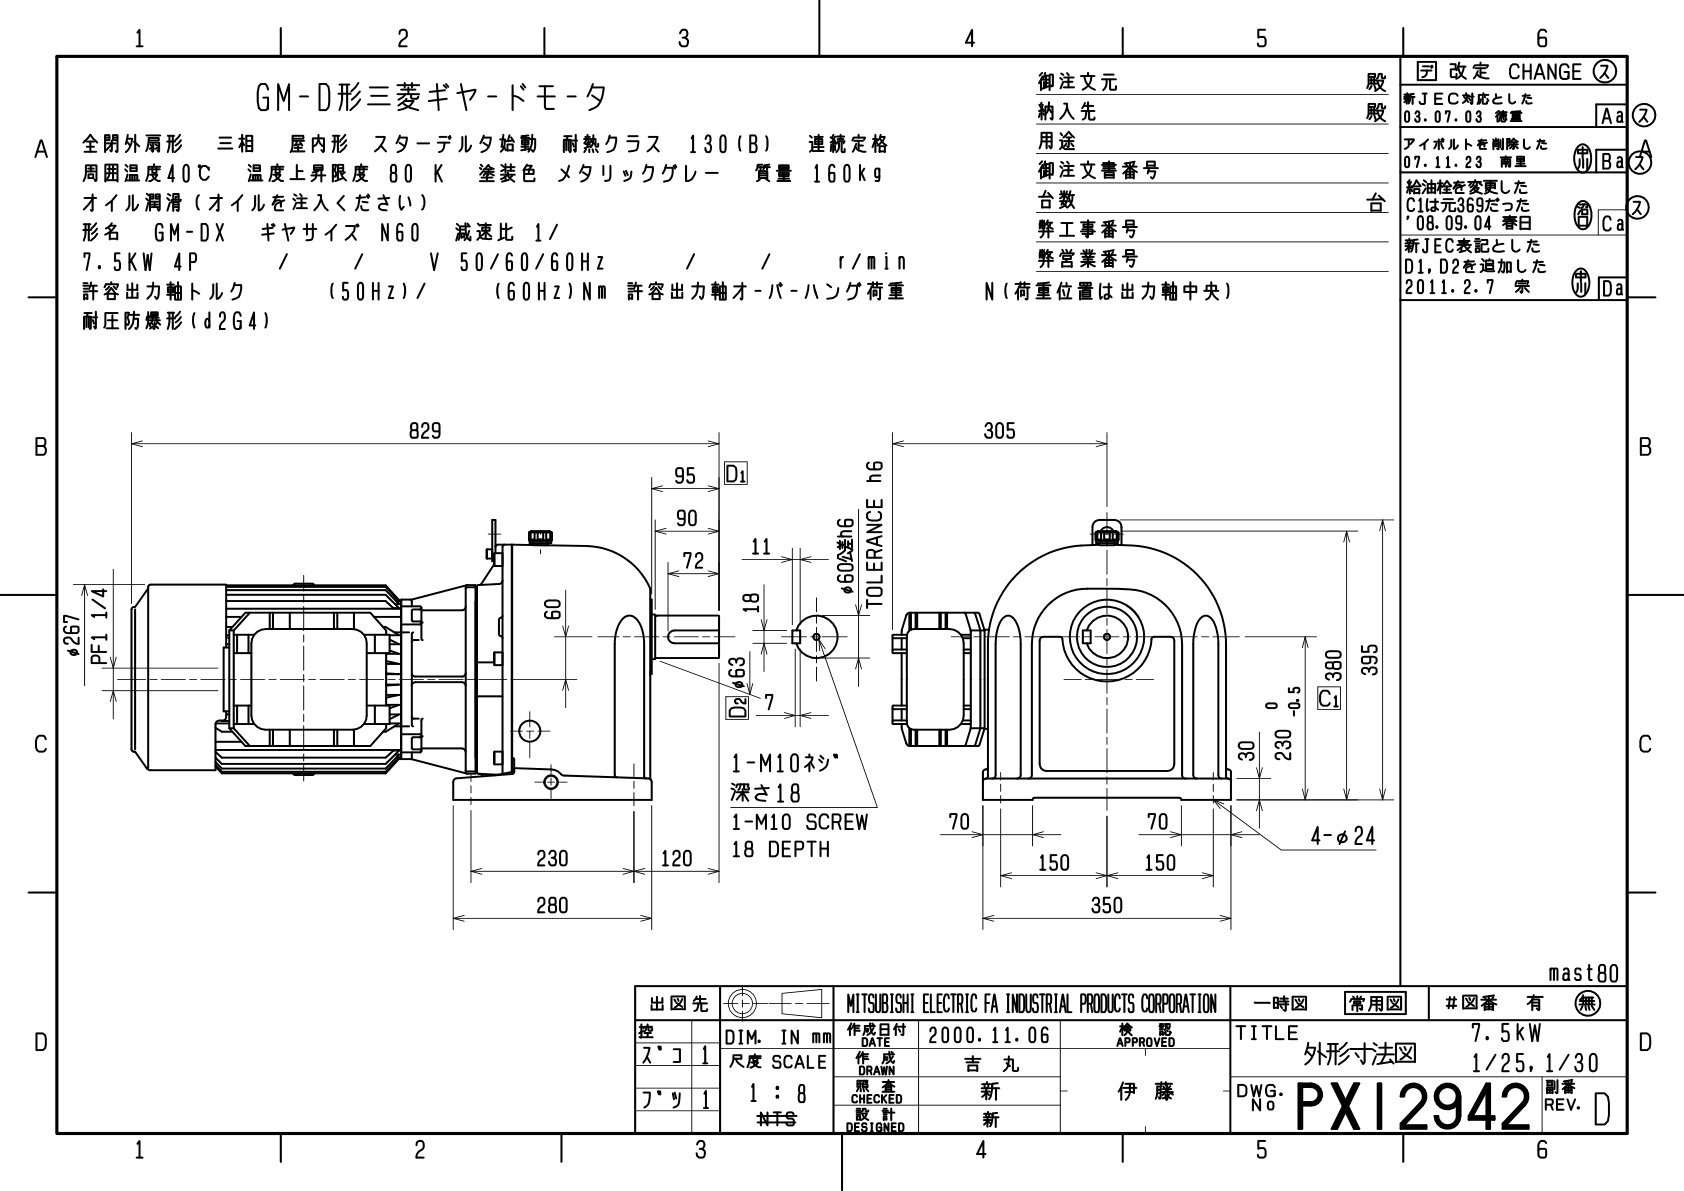GM_D_耐圧屋内_三相_脚: (55, 391, 1395, 965)
